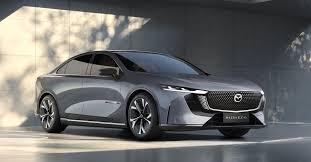mazda: (232, 90, 247, 109)
